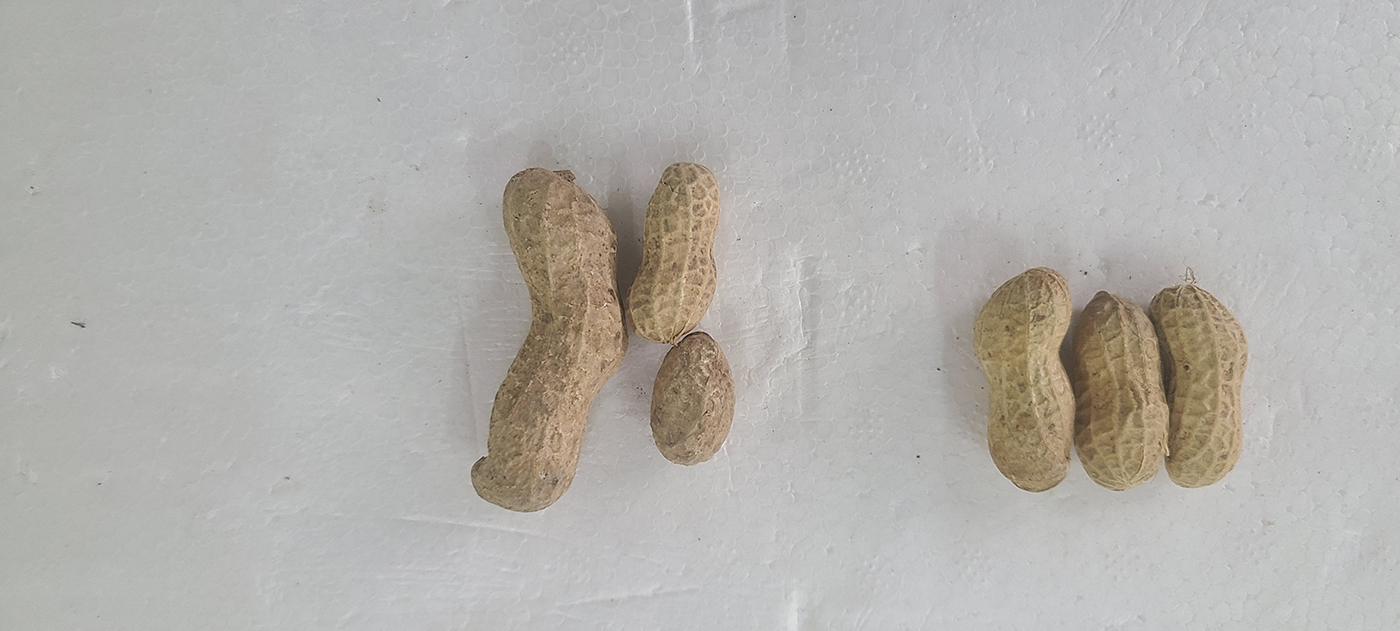h: (469, 167, 630, 513), (971, 267, 1079, 490), (1149, 284, 1248, 489), (1069, 293, 1171, 491), (630, 162, 724, 342)
l: (650, 333, 735, 467)
